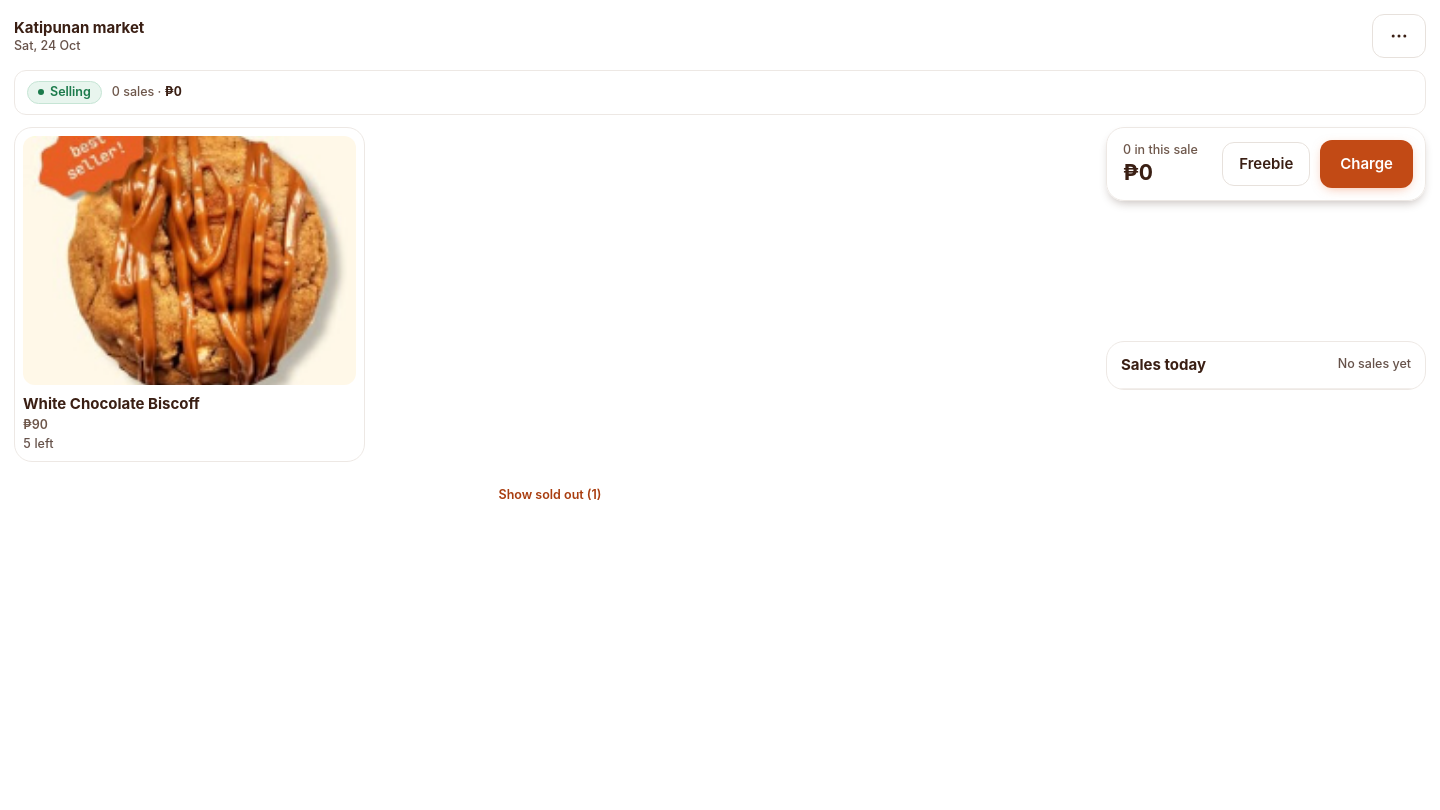
Test case: leaving the till and coming back, in the frame › Home leaves the day open, shows the selling card, and Back to the till returns to the same till
The image size is (1440, 810).
Expected: the text "Double Chocolate Fudge" is not shown
Expected: the text "White Chocolate Biscoff" is shown, 23,393 -> 200,415
Show sold out brings it back.
Click the button "Show sold out (1)" at point(550, 496), box 486,474 -> 614,518
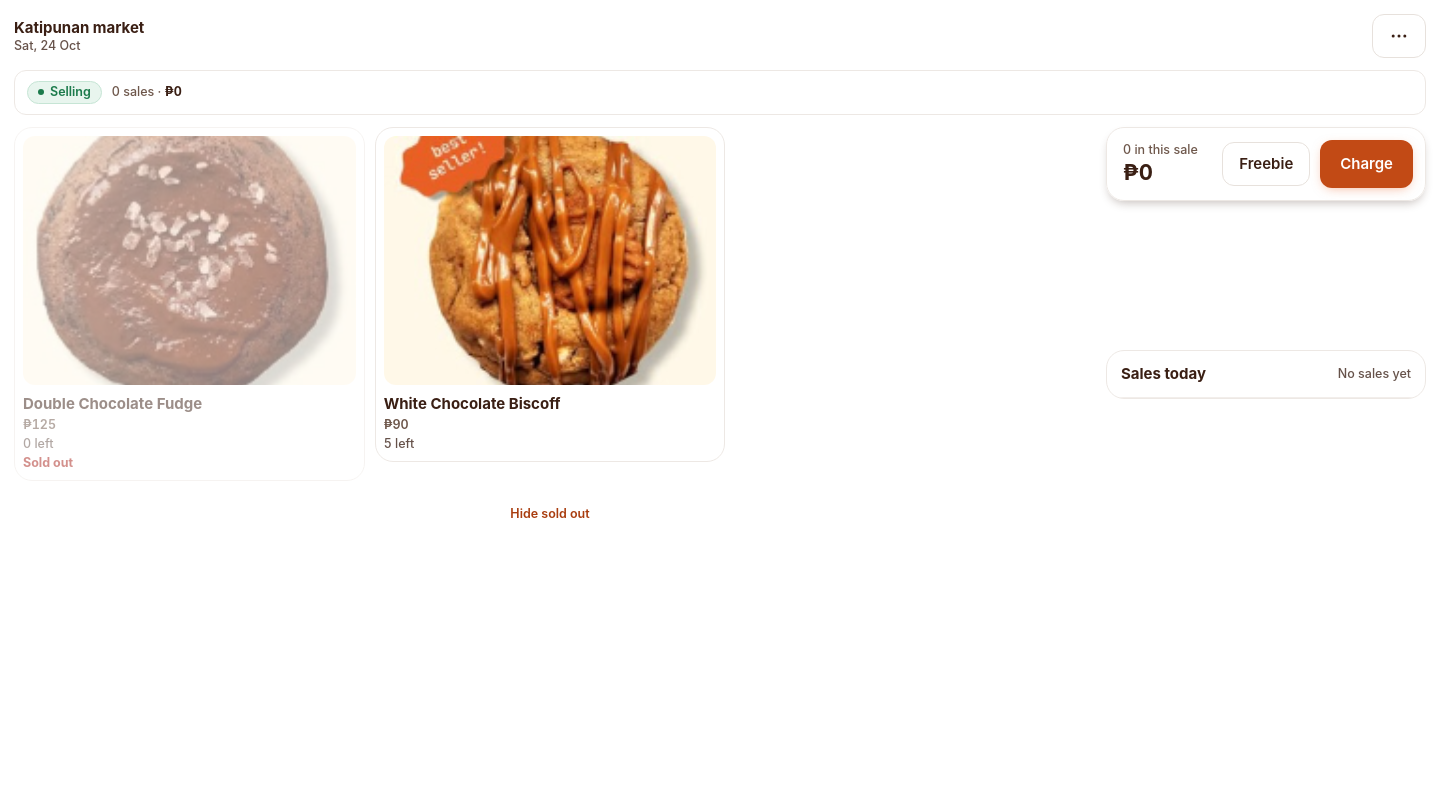
Expected: the text "Double Chocolate Fudge" is shown, 23,393 -> 202,415
Click the button named "Till menu" at point(1399, 36), box 1372,14 -> 1426,58
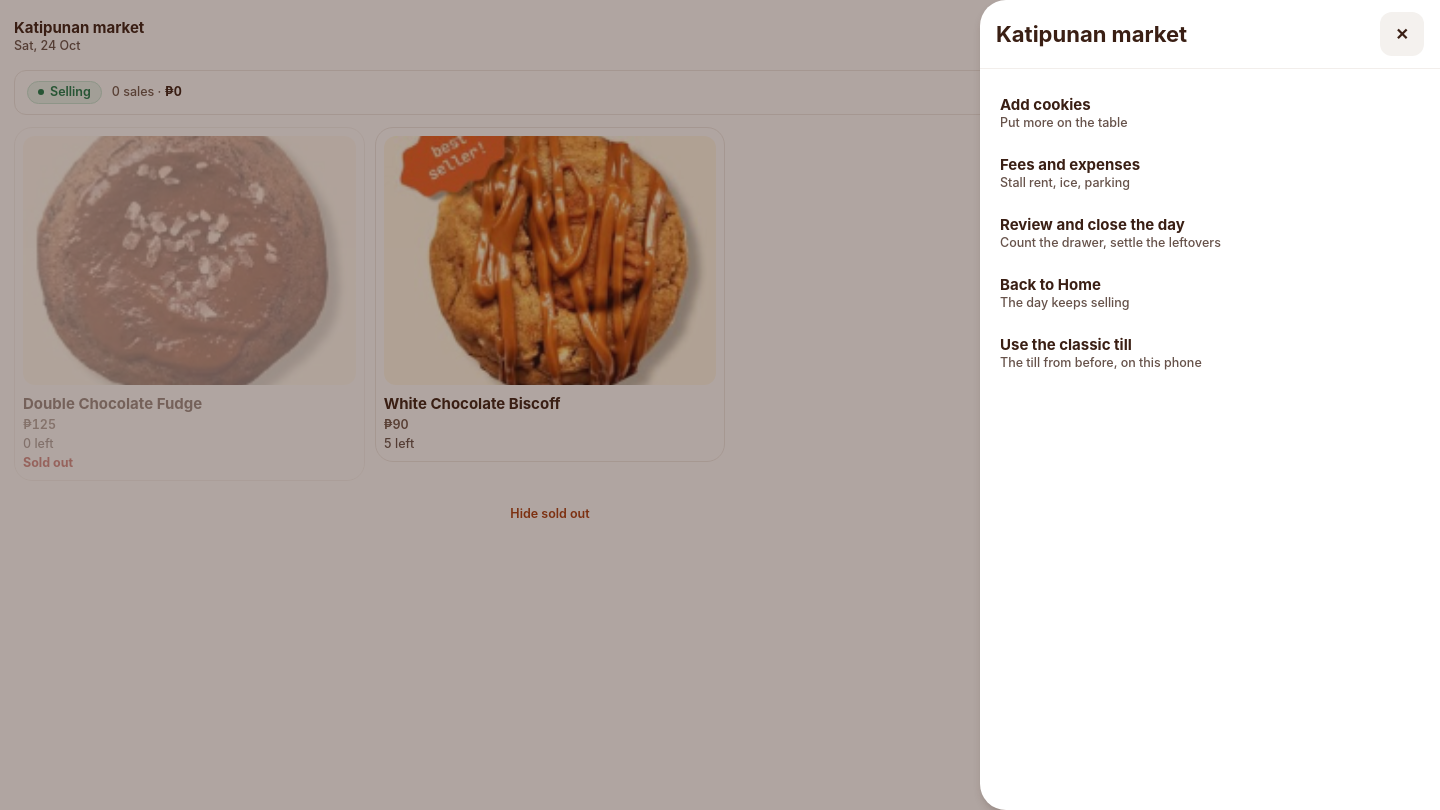
Click the button "Back to Home The day keeps selling" at point(1050, 284), box 996,265 -> 1424,321
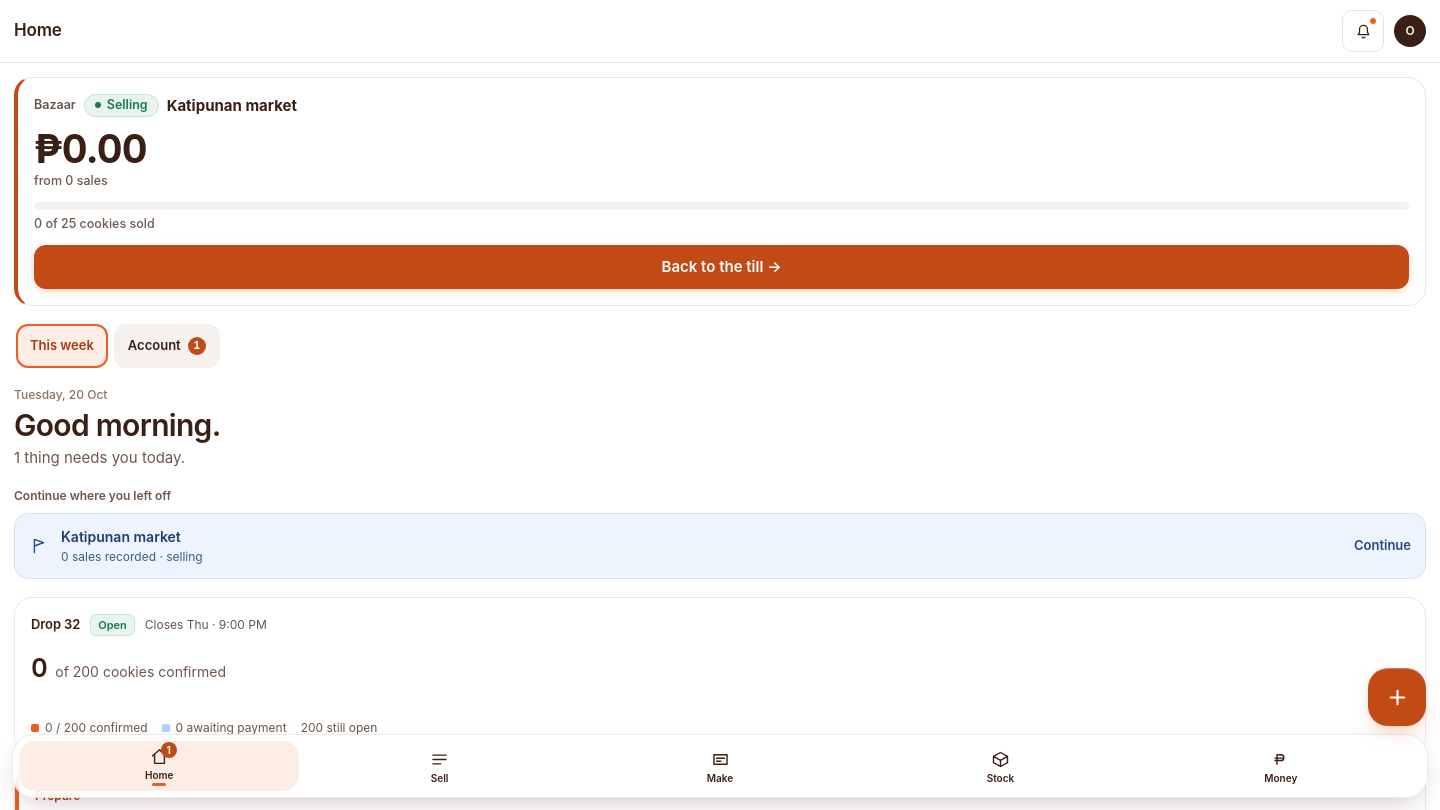
Expected: the text "Katipunan market" in the row of "Bazaar" is shown, 167,96 -> 297,115
Expected: the text "₱0.00" is shown, 34,124 -> 147,173
Click the button "Back to the till →" at point(722, 267), box 34,245 -> 1409,289
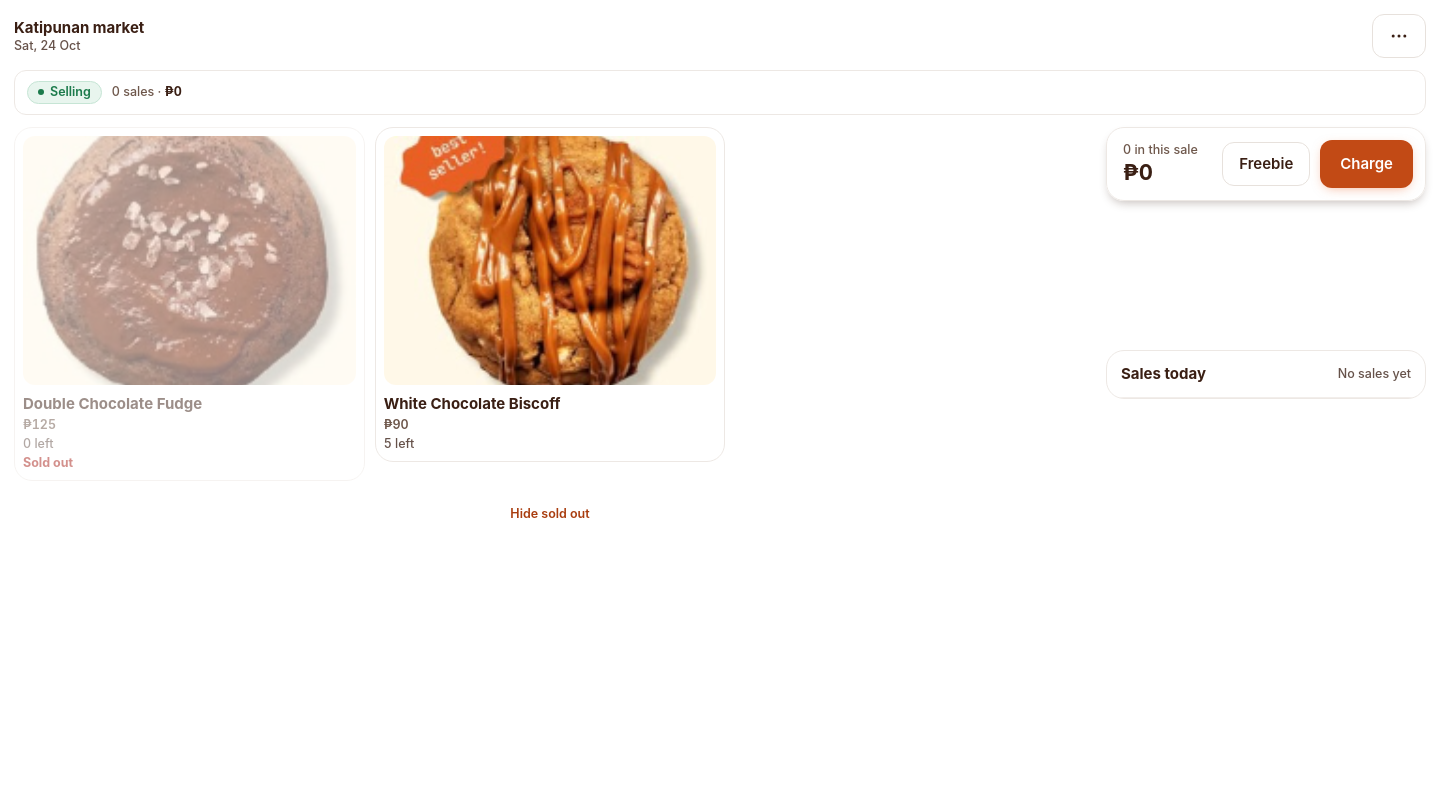
Expected: the element named "Till" is shown
